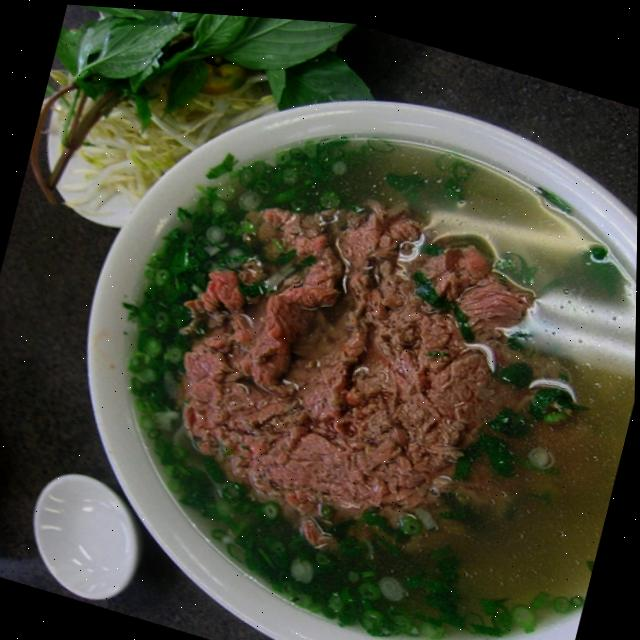面条主食: (27, 36, 640, 640)
